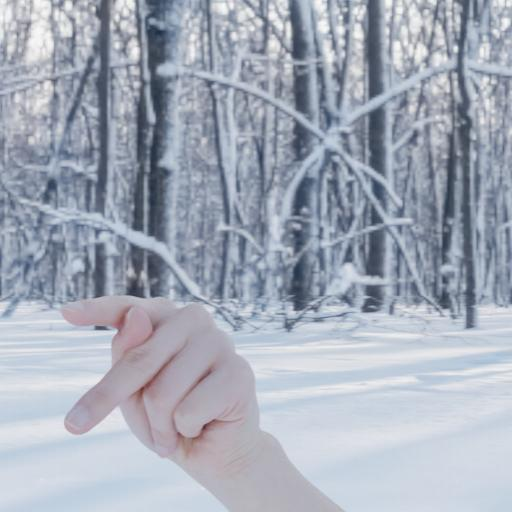P: (49, 288, 299, 494)
